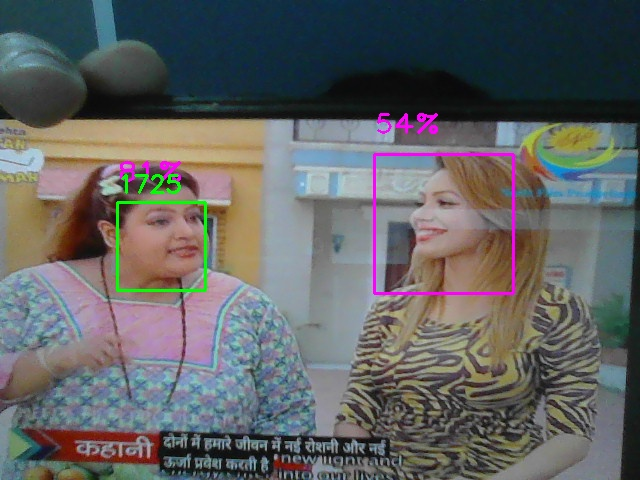fake: (117, 202, 206, 291)
